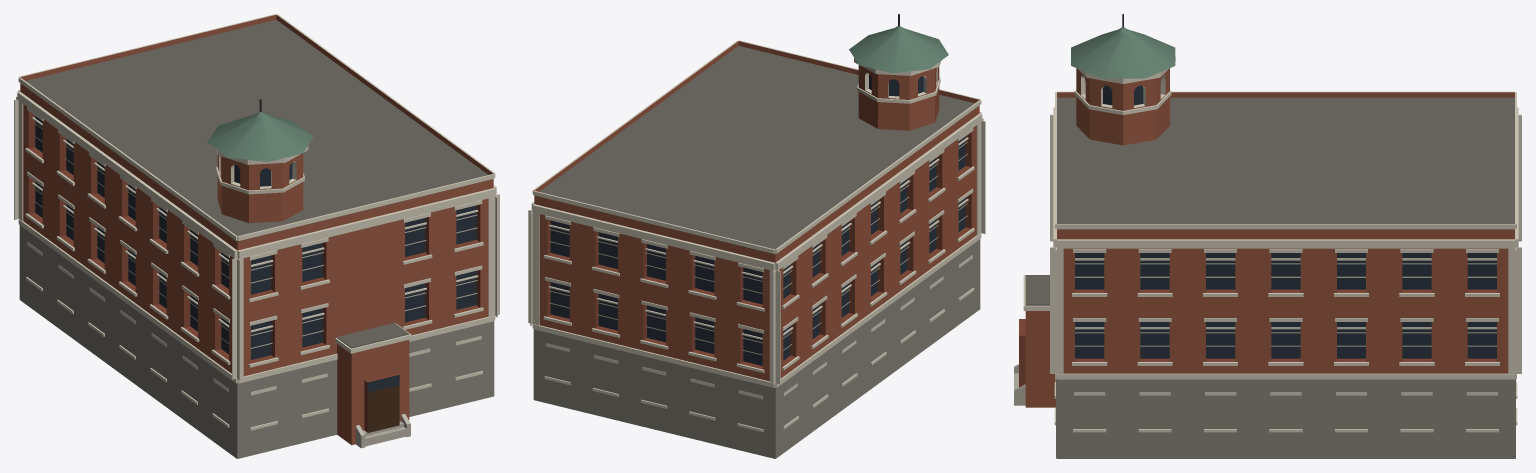
Rendered from ch-capitol-view-methodist-1961.glb.
3 renders of one model, left to right at view 1: azimuth 30°, elevation 25°; view 2: azimuth 150°, elevation 25°; view 3: azimuth 270°, elevation 25°, orthographic. The views are drawn at different scales.
Parts seen in each view (by area): view 1: ch_brick, ch_flat, ch_base, ch_trim, ch_glass, ch_brick2, ch_copper, ch_door, ch_lead, ch_conc; view 2: ch_flat, ch_brick, ch_base, ch_trim, ch_glass, ch_brick2, ch_copper, ch_lead; view 3: ch_flat, ch_brick, ch_base, ch_trim, ch_glass, ch_copper, ch_brick2, ch_lead.
Boxes of the visible parts, <box> form: ch_brick: <box>20,14,493,445</box>; ch_flat: <box>26,19,488,348</box>; ch_base: <box>19,225,494,458</box>; ch_trim: <box>14,14,499,430</box>; ch_glass: <box>35,116,476,392</box>; ch_brick2: <box>28,111,480,432</box>; ch_copper: <box>207,111,313,161</box>; ch_door: <box>367,385,399,432</box>; ch_lead: <box>33,122,477,348</box>; ch_conc: <box>355,414,410,448</box>; ch_flat: <box>535,46,975,254</box>; ch_brick: <box>534,41,979,381</box>; ch_base: <box>533,239,980,458</box>; ch_trim: <box>528,40,985,432</box>; ch_glass: <box>550,74,965,365</box>; ch_brick2: <box>547,132,971,369</box>; ch_copper: <box>849,26,948,73</box>; ch_lead: <box>549,142,967,355</box>; ch_flat: <box>1025,97,1514,305</box>; ch_brick: <box>1025,68,1514,407</box>; ch_base: <box>1056,379,1515,458</box>; ch_trim: <box>1023,57,1521,432</box>; ch_glass: <box>1075,85,1496,358</box>; ch_copper: <box>1071,27,1175,78</box>; ch_brick2: <box>1019,289,1496,387</box>; ch_lead: <box>1075,263,1496,346</box>.
Size of the model in its own units: 16.7 by 19.27 by 26.05.
